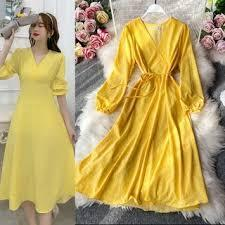dress: (80, 20, 200, 216), (0, 46, 77, 208)
